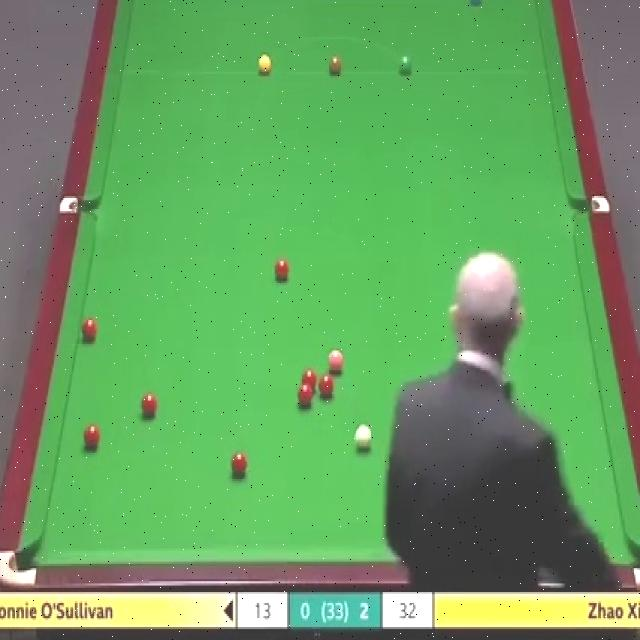blue-ball: (467, 0, 483, 7)
brown-ball: (328, 56, 343, 78)
green-ball: (398, 55, 413, 78)
pink-ball: (324, 349, 344, 375)
red-ball: (83, 422, 101, 452), (230, 450, 248, 479), (140, 393, 158, 422), (296, 384, 314, 409), (318, 373, 336, 398), (80, 317, 97, 343), (274, 257, 291, 283), (300, 368, 318, 392)
white-ball: (354, 421, 374, 454)
yellow-ball: (258, 54, 272, 76)
